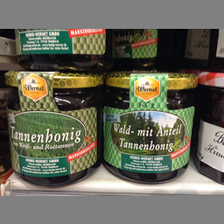honey: (2, 69, 103, 186), (106, 70, 201, 181)
